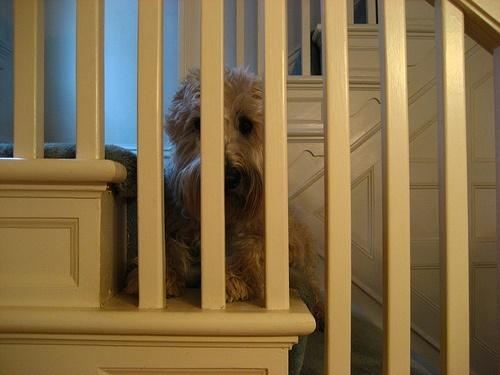dog: (125, 68, 323, 300)
